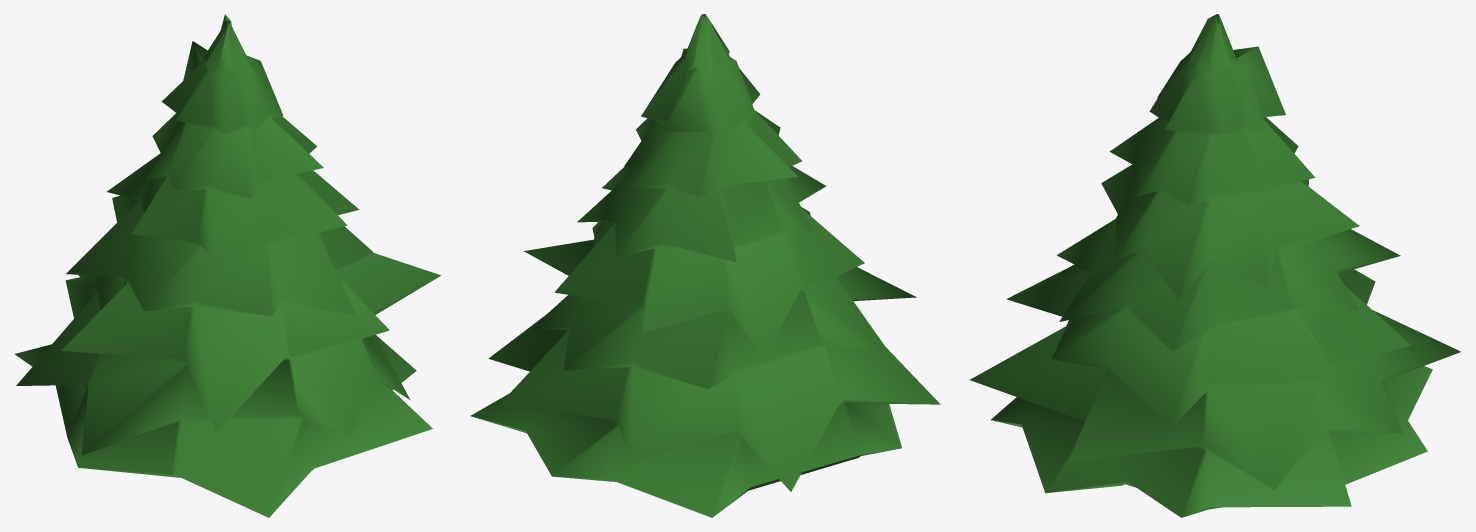
Rendered from sapin.fbx.
3 views of the same model, side by side, from view 1: azimuth 30°, elevation 25°; view 2: azimuth 150°, elevation 25°; view 3: azimuth 270°, elevation 25° (orthographic). The views are drawn at different scales.
Visible parts, largest first — view 1: pCone1; view 2: pCone1; view 3: pCone1.
Part boxes in pixels (x1,y1,x2,y2): pCone1: (15, 14, 441, 517); pCone1: (470, 14, 940, 517); pCone1: (970, 14, 1460, 517).
Size of the model in its own units: 12.13 by 12.47 by 12.69.
